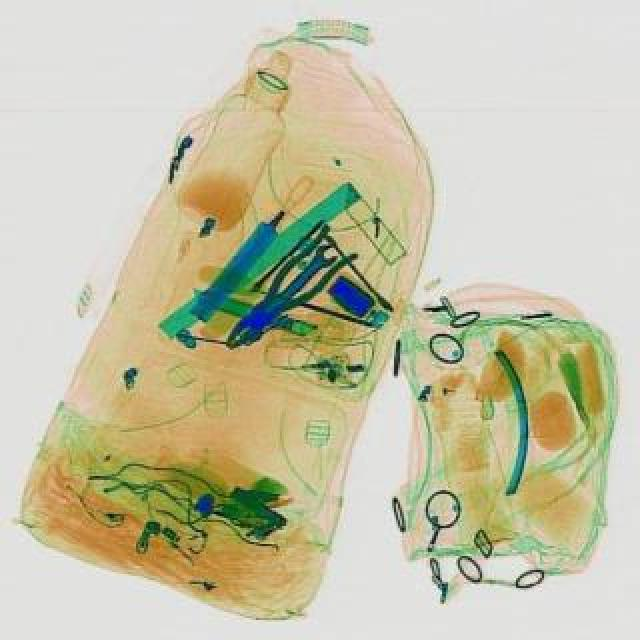scissors: (252, 238, 340, 322)
wrench: (206, 222, 358, 362)
